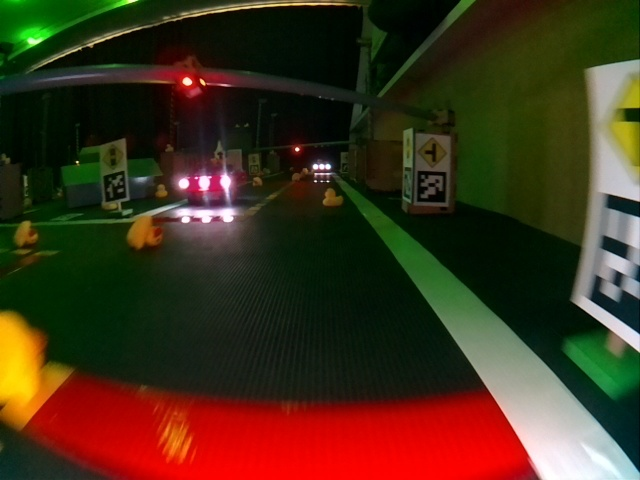Duckie: (127, 218, 161, 246), (15, 223, 38, 247), (323, 190, 343, 206), (156, 184, 166, 197), (293, 173, 300, 181)
Intersection sign: (589, 66, 638, 179), (416, 137, 447, 167)
QR code: (586, 189, 639, 344), (416, 174, 447, 203), (102, 171, 128, 202), (402, 166, 412, 201)
Signal sign: (101, 144, 126, 170)
Traffic light: (176, 58, 207, 99), (293, 145, 302, 154)
